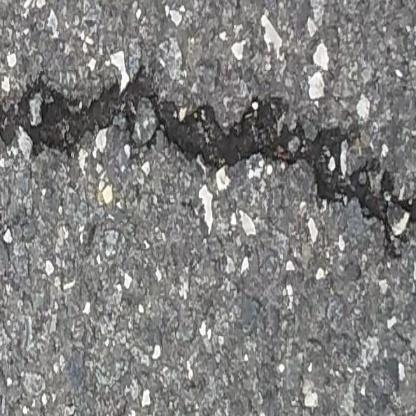Cracks: (0, 63, 416, 261)
